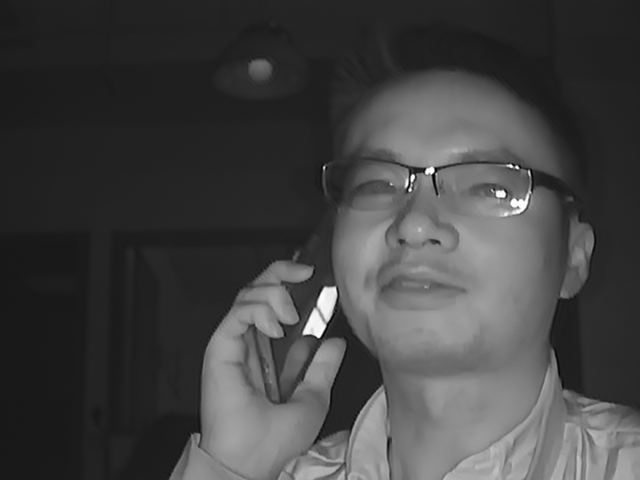hand: (198, 259, 346, 463)
